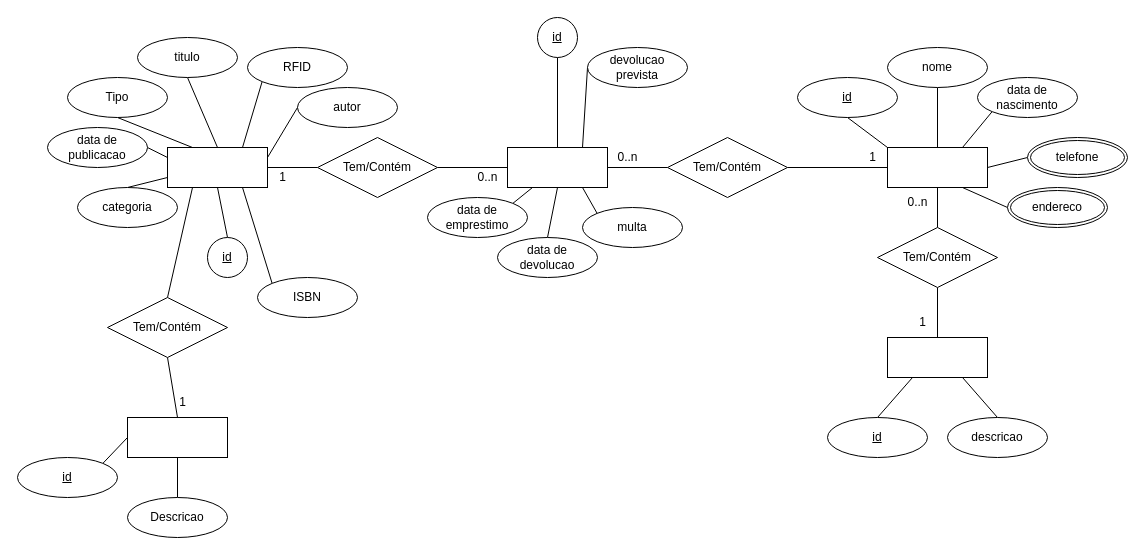
The diagram is 1145 pixels wide and 555 high, and some of its shapes have lost their labels. Here are the shapes that lost their labels. From the top down, the centre of each, then its label:
At point (217, 167): "Obra".
At point (557, 167): "Emprestimo".
At point (937, 167): "Cliente".
At point (937, 357): "TipoCliente".
At point (177, 437): "TipoObra".
